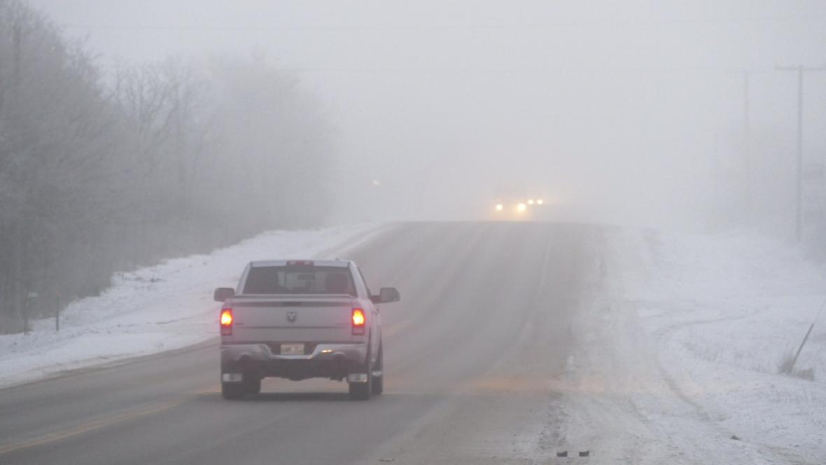car: (212, 255, 402, 404)
